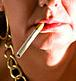smoke: (16, 22, 44, 58)
